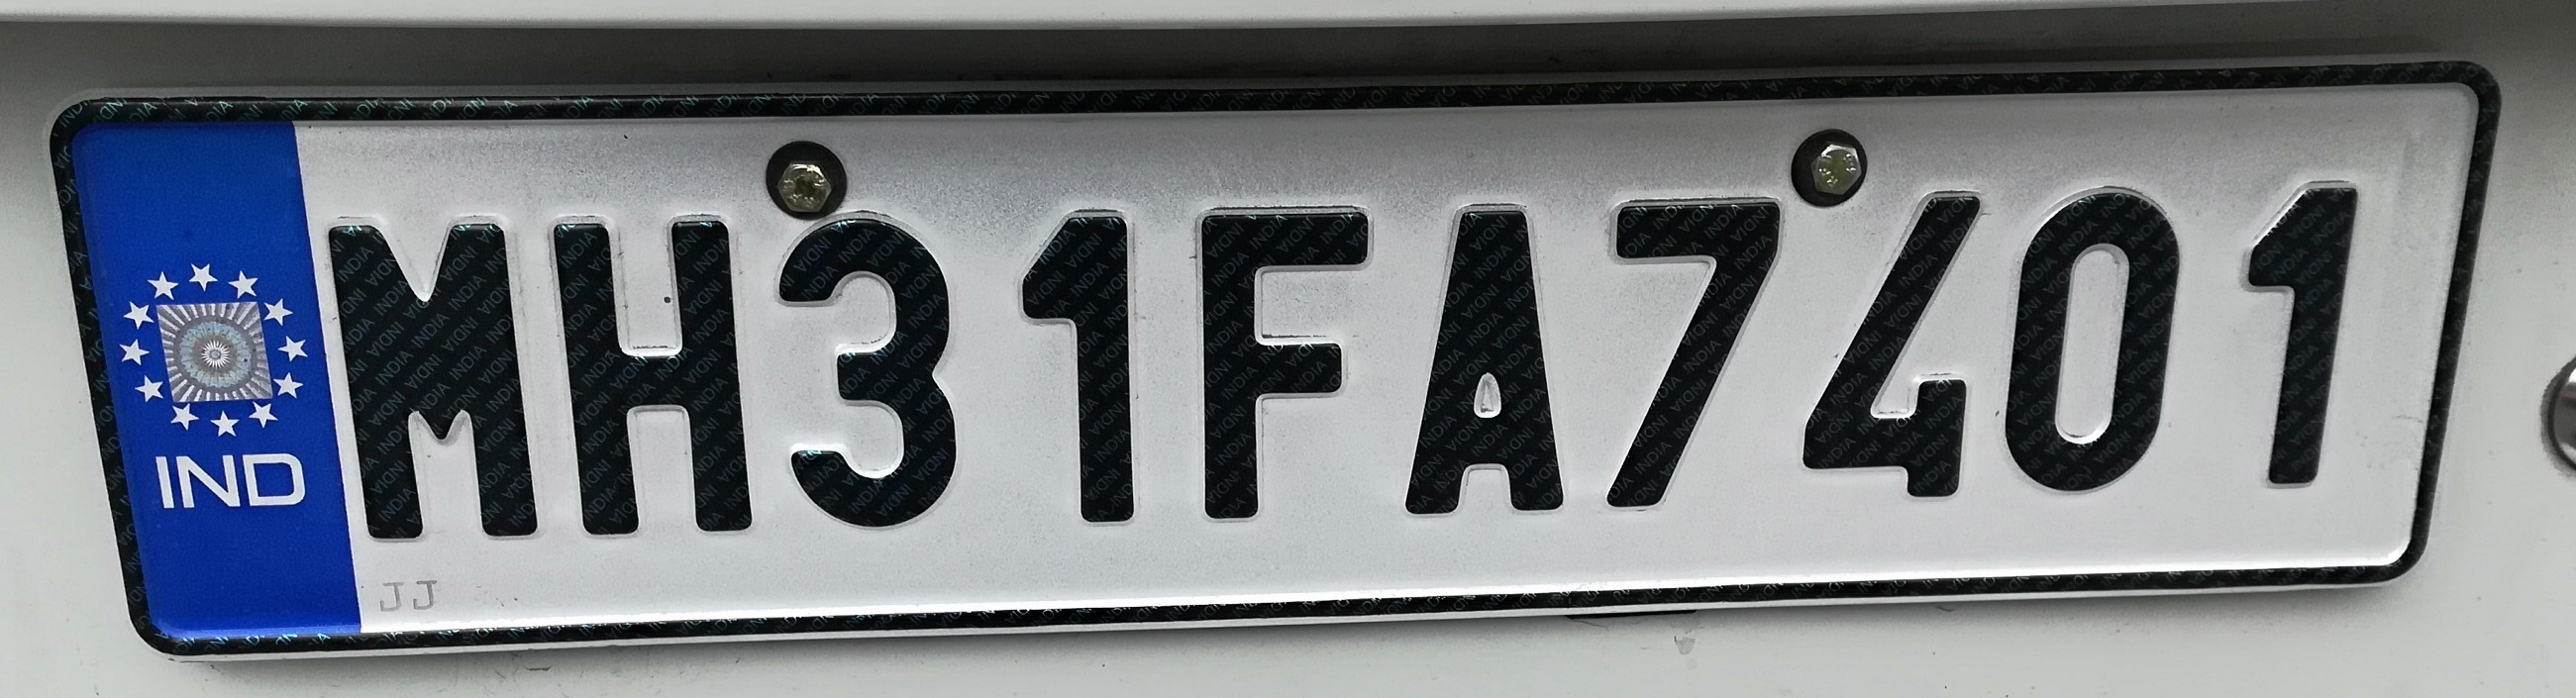numberplate: (41, 55, 2509, 660)
